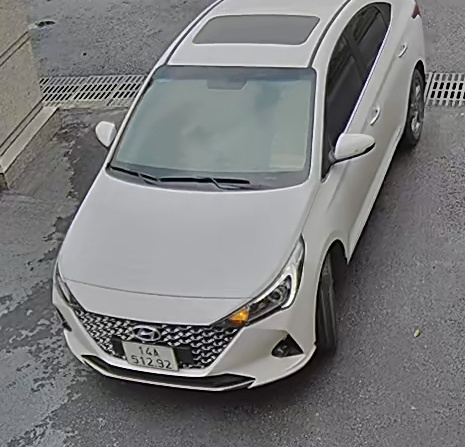vehicle plate: (119, 334, 181, 378)
